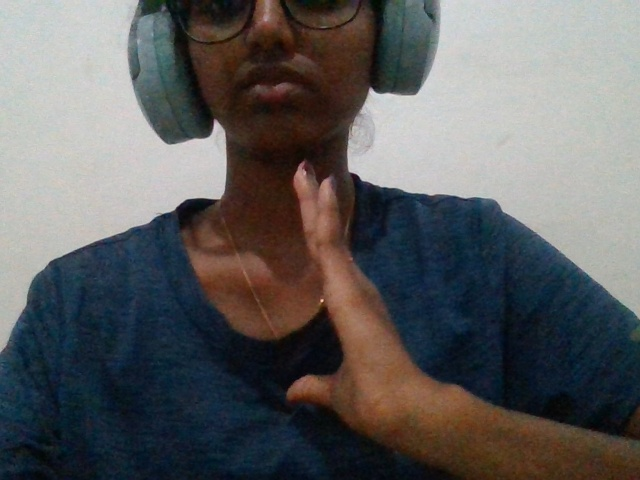Fine: (248, 141, 469, 468)
